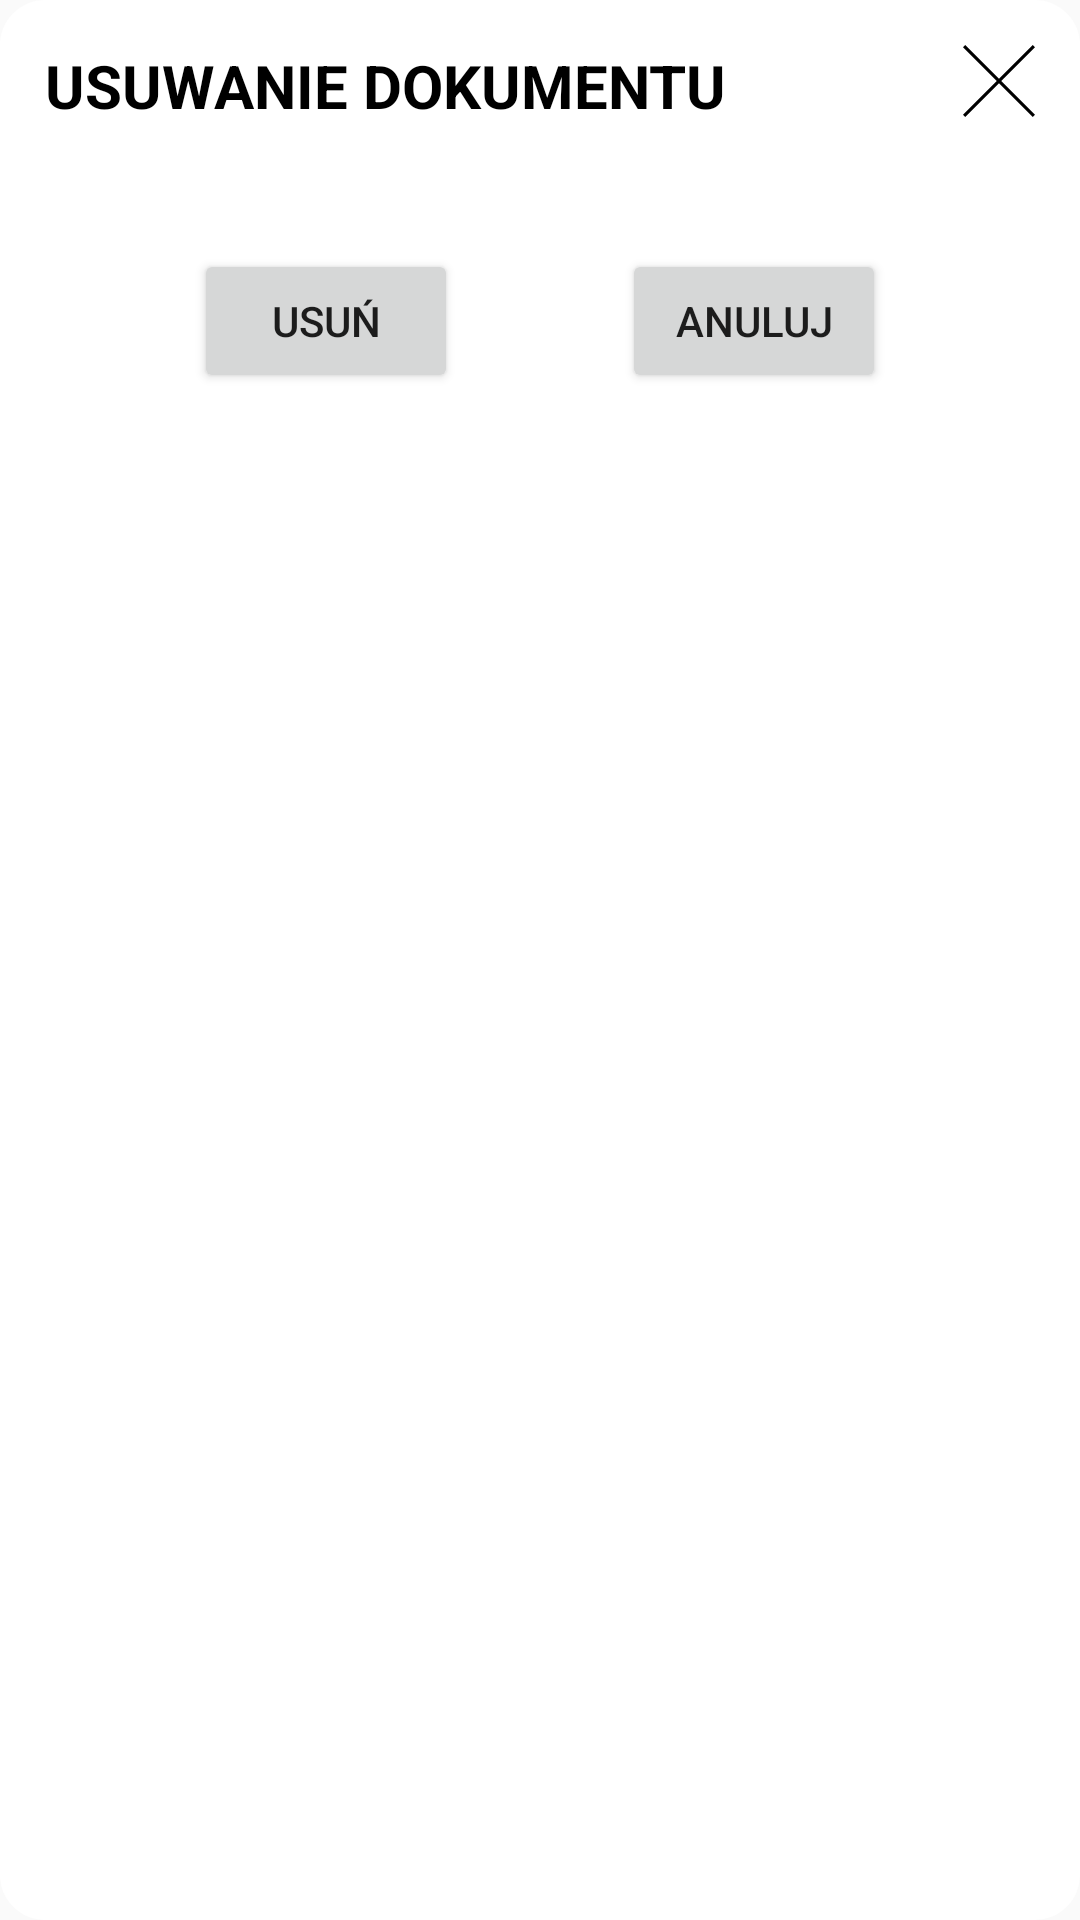

Icon click points for this 1080px×1920px phone screenshot, format (x=x, y=y):
Zamknij dialog: (x=999, y=81)
